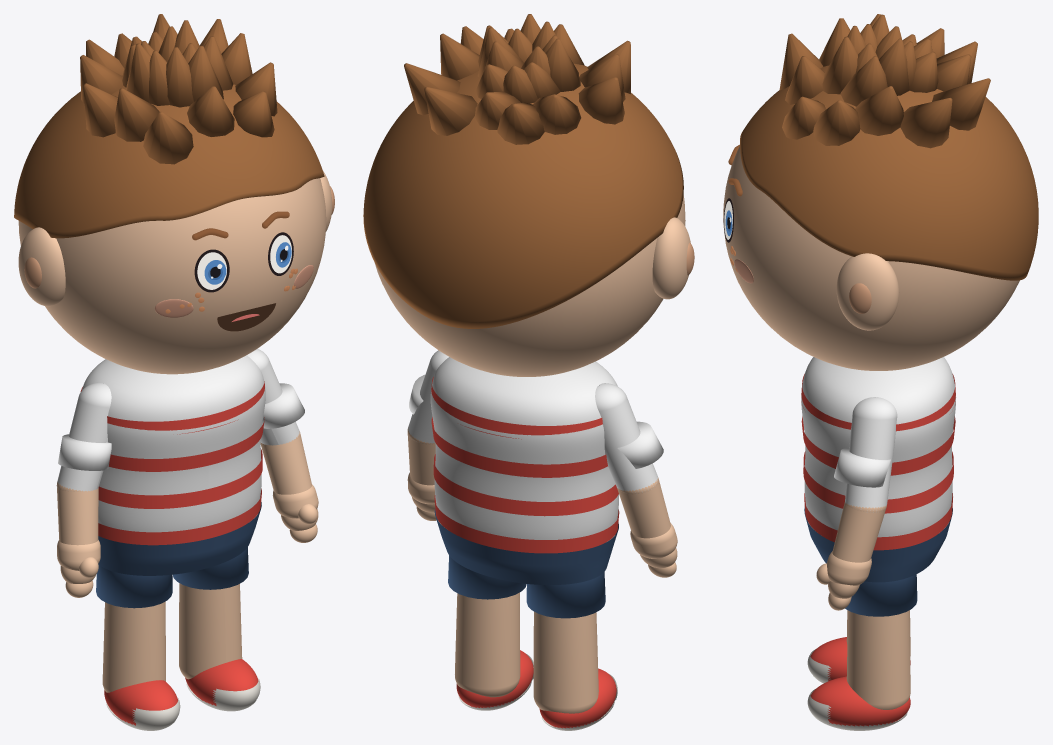
File: broertje.glb
3 renders of one model, left to right at view 1: azimuth 30°, elevation 25°; view 2: azimuth 150°, elevation 25°; view 3: azimuth 270°, elevation 25°, orthographic. The views are drawn at different scales.
Parts seen in each view (by area): view 1: broertje_hoofd, broertje_haar, broertje_romp, broertje_been_L, broertje_been_R, broertje_short_heup, broertje_bovenarm_R, broertje_oor_R, broertje_short_R, broertje_streep1, broertje_onderarm_R, broertje_streep0 (+29 smaller); view 2: broertje_haar, broertje_romp, broertje_hoofd, broertje_been_L, broertje_been_R, broertje_short_heup, broertje_bovenarm_R, broertje_streep1, broertje_short_R, broertje_streep0, broertje_streep2, broertje_oor_R (+24 smaller); view 3: broertje_haar, broertje_hoofd, broertje_romp, broertje_been_L, broertje_bovenarm_L, broertje_oor_L, broertje_short_heup, broertje_schoen_L, broertje_short_L, broertje_onderarm_L, broertje_haar_piek18, broertje_haar_piek16 (+20 smaller).
Part boxes in pixels (x1,y1,x2,y2): broertje_hoofd: (18,178,326,374); broertje_haar: (14,84,324,238); broertje_romp: (82,355,265,532); broertje_been_L: (179,583,242,679); broertje_been_R: (102,601,165,692); broertje_short_heup: (98,502,261,575); broertje_bovenarm_R: (57,382,111,491); broertje_oor_R: (18,227,65,306); broertje_short_R: (96,564,172,608); broertje_streep1: (98,448,262,508); broertje_onderarm_R: (57,485,98,545); broertje_streep0: (98,488,261,545); broertje_haar: (363,63,683,328); broertje_romp: (430,357,618,541); broertje_hoofd: (374,195,685,376); broertje_been_L: (455,592,520,697); broertje_been_R: (533,611,598,713); broertje_short_heup: (434,509,618,584); broertje_bovenarm_R: (595,383,658,494); broertje_streep1: (433,454,618,516); broertje_short_R: (526,572,605,618); broertje_streep0: (434,495,619,553); broertje_streep2: (431,417,607,477); broertje_oor_R: (652,217,690,299); broertje_haar: (740,65,1038,280); broertje_hoofd: (723,146,1019,370); broertje_romp: (801,357,955,537); broertje_been_L: (846,610,910,709); broertje_bovenarm_L: (845,397,897,512); broertje_oor_L: (836,253,899,330); broertje_short_heup: (804,507,952,582); broertje_schoen_L: (810,676,910,726); broertje_short_L: (845,574,917,616); broertje_onderarm_L: (832,502,885,562); broertje_haar_piek18: (900,98,952,148); broertje_haar_piek16: (855,86,903,135).
Bounding box in the file's own units: 0.6198 × 1.3 × 0.5481.
